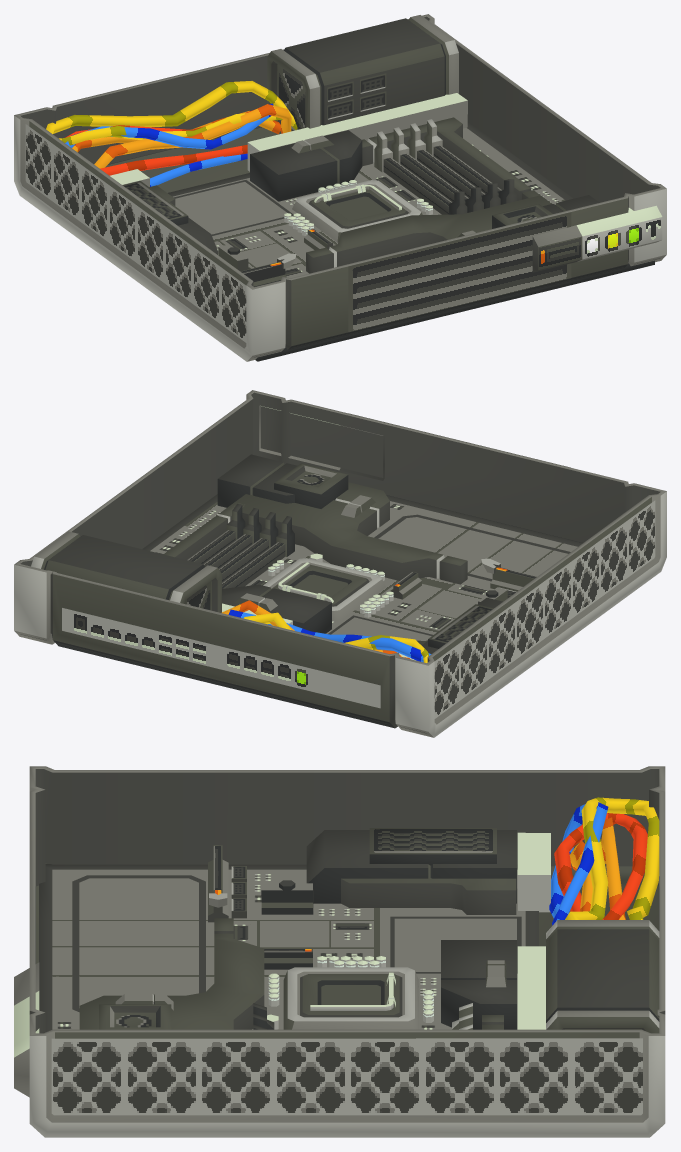
Rendered from server-open.glb.
3 views of the same model, one above another, from view 1: azimuth 30°, elevation 25°; view 2: azimuth 150°, elevation 25°; view 3: azimuth 270°, elevation 25° (orthographic). The views are drawn at different scales.
Parts seen in each view (by area): view 1: Plane.030, Plane.031, Plane.003, Plane.054, Plane.024, Plane.013, Plane.004, Plane.052, Plane.007, Plane.005, Plane.032, Plane.014 (+3 smaller); view 2: Plane.030, Plane.003, Plane.024, Plane.031, Plane.013, Plane.004, Plane.005, Plane.054, Plane.014, Plane.006, Plane.017, Plane.023 (+1 smaller); view 3: Plane.030, Plane.003, Plane.013, Plane.024, Plane.031, Plane.054, Plane.005, Plane.007, Plane.014, Plane.017, Plane.023, Plane.052 (+6 smaller).
Boxes of the visible parts, x1,y1,x2,y2 form: Plane.030: [14, 14, 666, 361]; Plane.031: [267, 15, 458, 134]; Plane.003: [168, 121, 654, 361]; Plane.054: [46, 81, 297, 186]; Plane.024: [149, 117, 551, 273]; Plane.013: [178, 130, 599, 254]; Plane.004: [374, 119, 517, 214]; Plane.052: [532, 205, 662, 272]; Plane.007: [110, 93, 467, 186]; Plane.005: [292, 180, 422, 242]; Plane.032: [327, 73, 386, 119]; Plane.014: [122, 181, 188, 225]; Plane.030: [14, 390, 666, 737]; Plane.003: [142, 494, 582, 650]; Plane.024: [163, 482, 467, 645]; Plane.031: [31, 531, 221, 633]; Plane.013: [217, 454, 502, 653]; Plane.004: [187, 504, 294, 588]; Plane.005: [263, 558, 385, 620]; Plane.054: [221, 600, 431, 662]; Plane.014: [428, 604, 493, 648]; Plane.006: [481, 558, 537, 591]; Plane.017: [389, 571, 507, 603]; Plane.023: [374, 514, 570, 581]; Plane.030: [29, 766, 665, 1137]; Plane.003: [39, 864, 538, 1032]; Plane.013: [99, 830, 516, 1029]; Plane.024: [79, 878, 516, 1029]; Plane.031: [546, 920, 659, 1033]; Plane.054: [549, 797, 659, 925]; Plane.005: [283, 967, 418, 1029]; Plane.007: [517, 832, 550, 1029]; Plane.014: [369, 828, 496, 865]; Plane.017: [261, 880, 313, 969]; Plane.023: [72, 875, 205, 1012]; Plane.052: [14, 962, 39, 1097].
Bounding box in the file's own units: 0.5 × 0.0966 × 0.512.
Materials: 1 (1 with a texture image).
